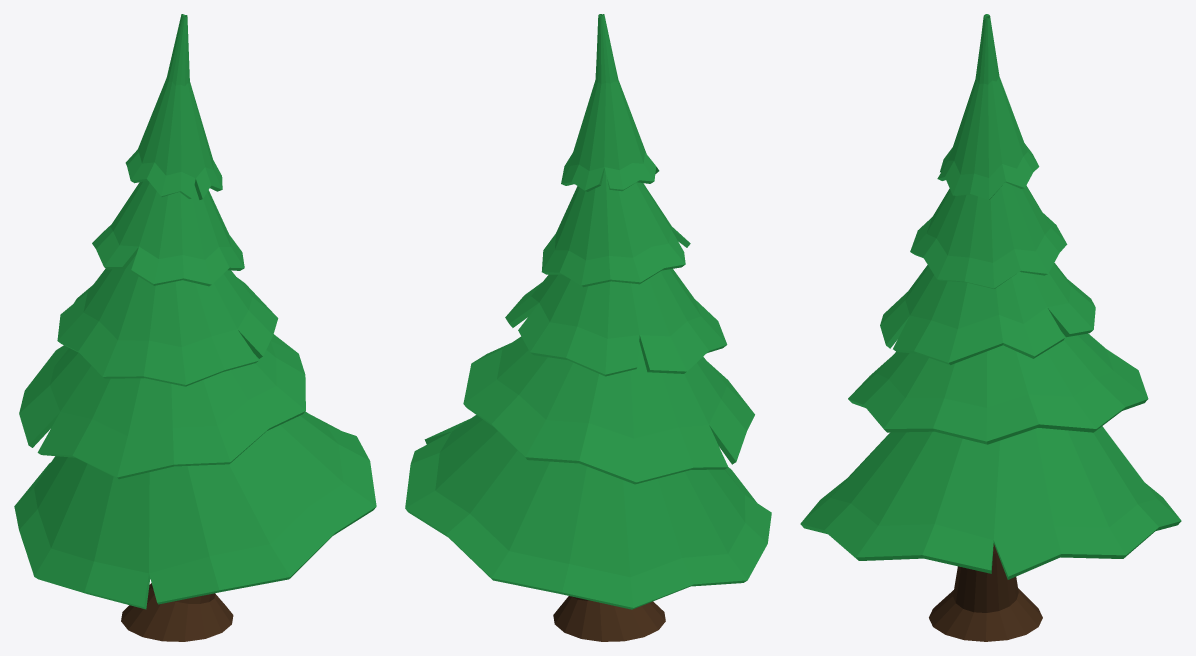
File: Tannenbaum.fbx
3 renders of one model, left to right at view 1: azimuth 30°, elevation 25°; view 2: azimuth 150°, elevation 25°; view 3: azimuth 270°, elevation 25°, orthographic.
Parts seen in each view (by area): view 1: Cylinder; view 2: Cylinder; view 3: Cylinder.
Boxes of the visible parts, box(x1,y1,x2,y2) form: Cylinder: box(14, 14, 376, 641); Cylinder: box(405, 14, 771, 641); Cylinder: box(800, 14, 1181, 641).
Bounding box in the file's own units: 312 × 553 × 316.
